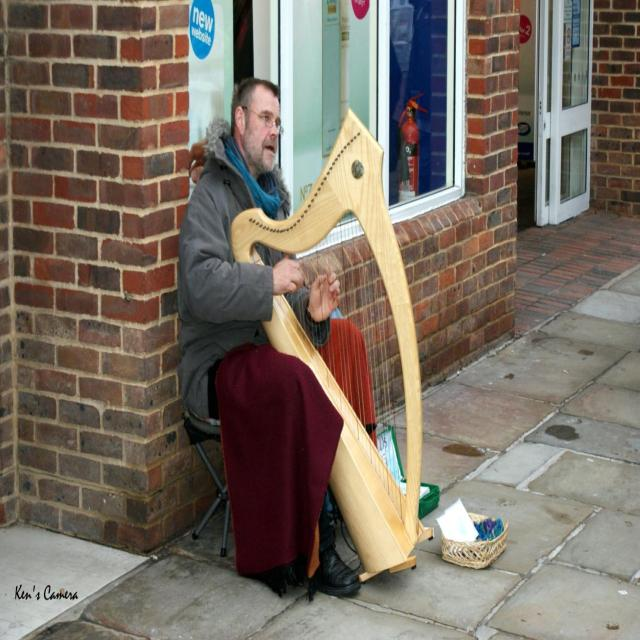harp: (228, 110, 438, 587)
